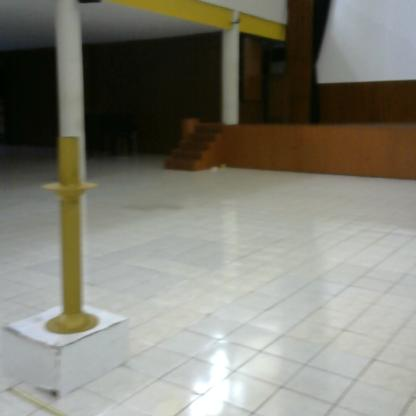pole: (32, 128, 108, 352)
